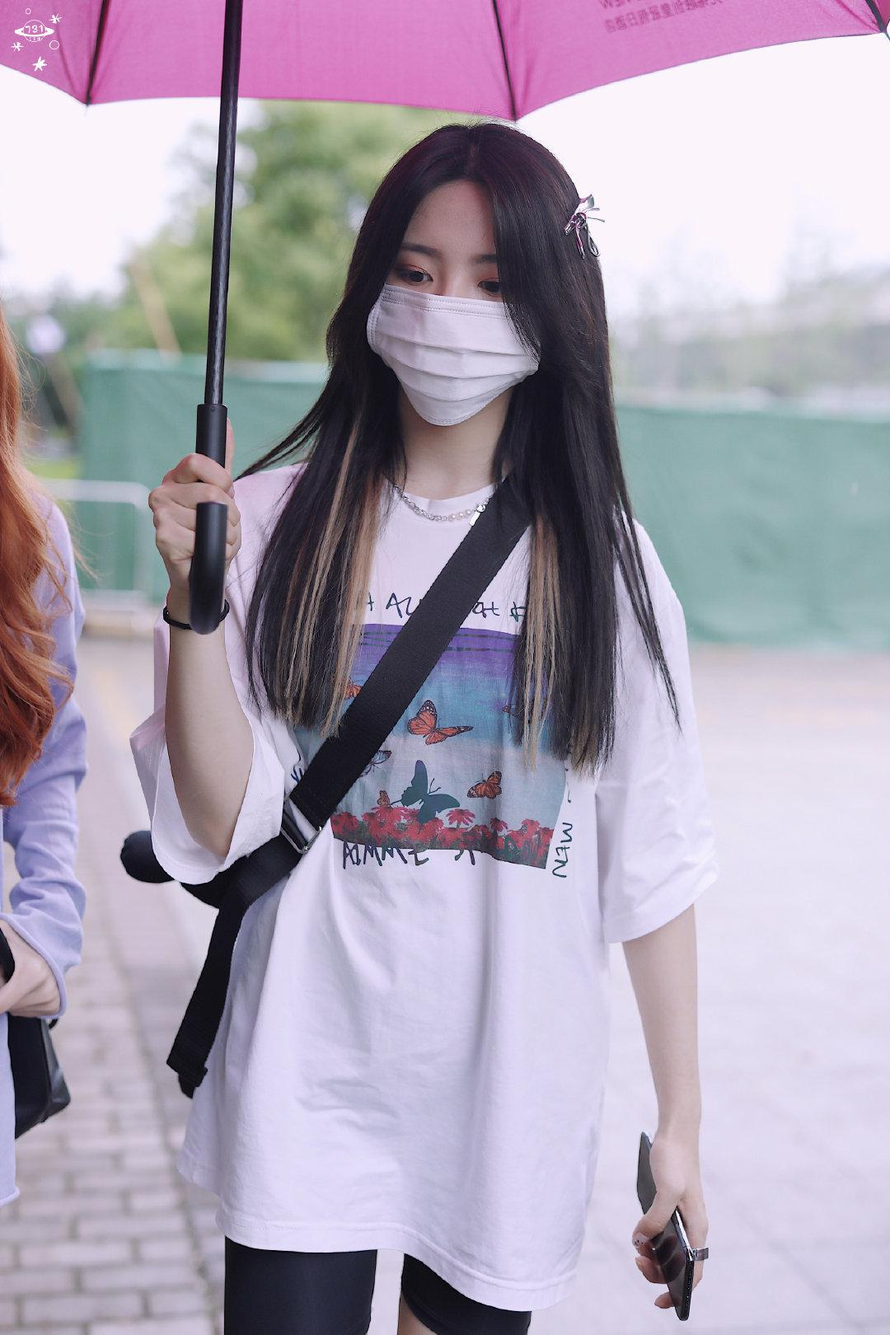OK: (377, 225, 543, 429)
